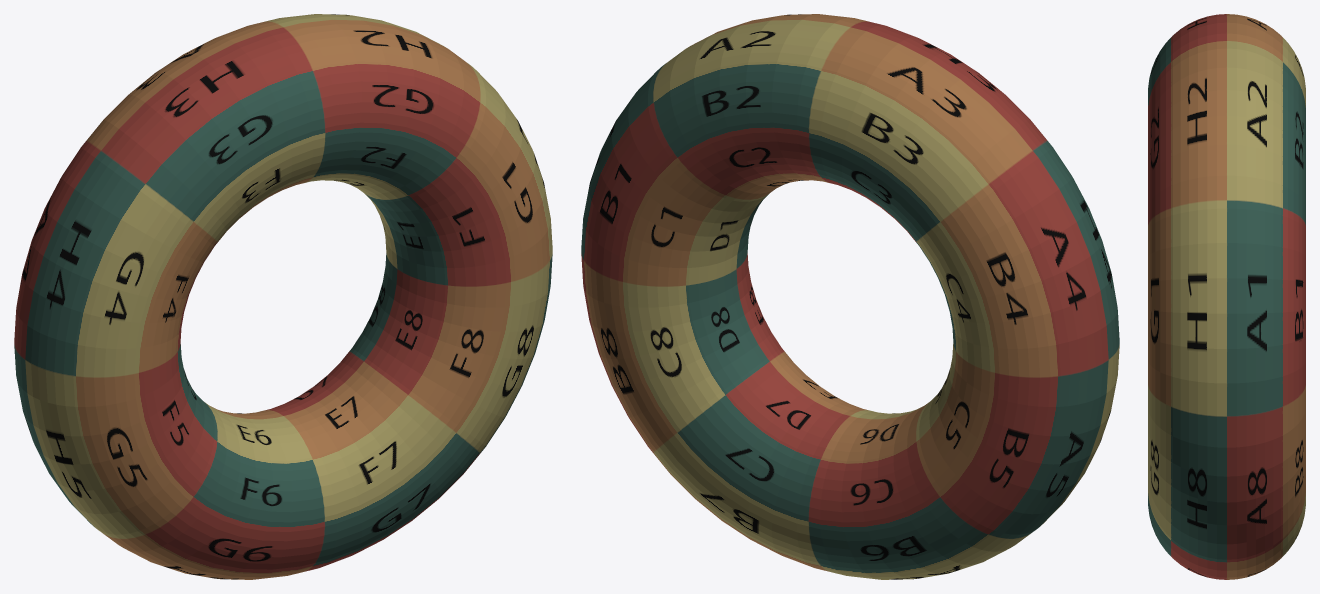
The model's file is texture_torus_R1_r8.glb.
3 renders of one model, left to right at view 1: azimuth 30°, elevation 25°; view 2: azimuth 150°, elevation 25°; view 3: azimuth 270°, elevation 25°, orthographic. The views are drawn at different scales.
Parts seen in each view (by area): view 1: world; view 2: world; view 3: world.
Part boxes in pixels (bbox=[...]): world: bbox=[14, 14, 552, 579]; world: bbox=[581, 14, 1119, 579]; world: bbox=[1148, 14, 1305, 579].
Bounding box in the file's own units: 14.8 × 14.77 × 4.13.
Materials: 1 (1 with a texture image).
